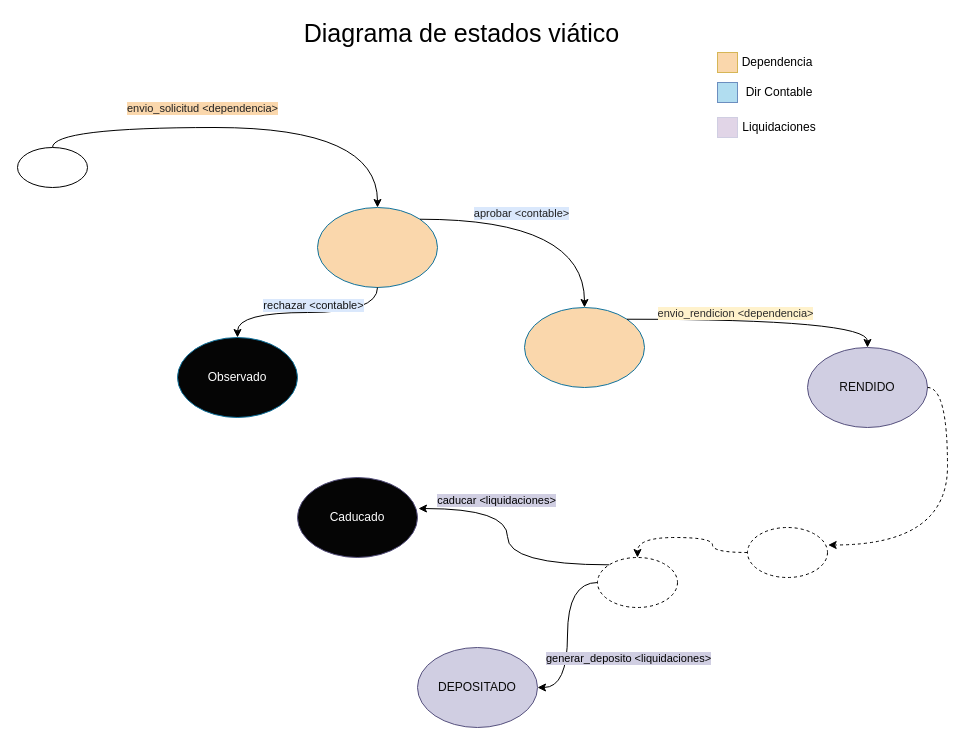
This 965x745 diagram has some shape labels left out. The box of each missing label's shape, as (x1, y1, x2, y2) in pixels:
APROBADO: (524, 306, 644, 388)
INICIAL: (316, 206, 438, 288)
